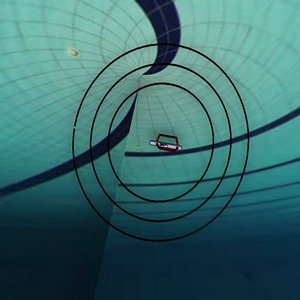circle: (53, 26, 257, 243)
submarine: (138, 124, 193, 166)
